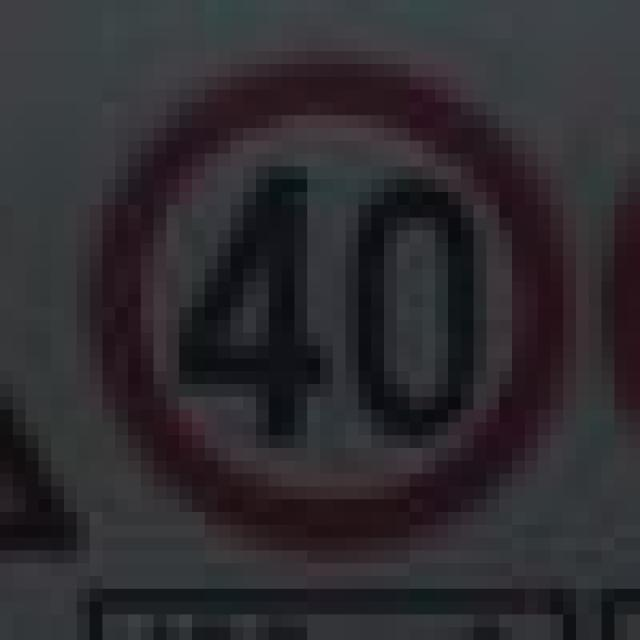falling_rocks: (77, 51, 563, 538)
